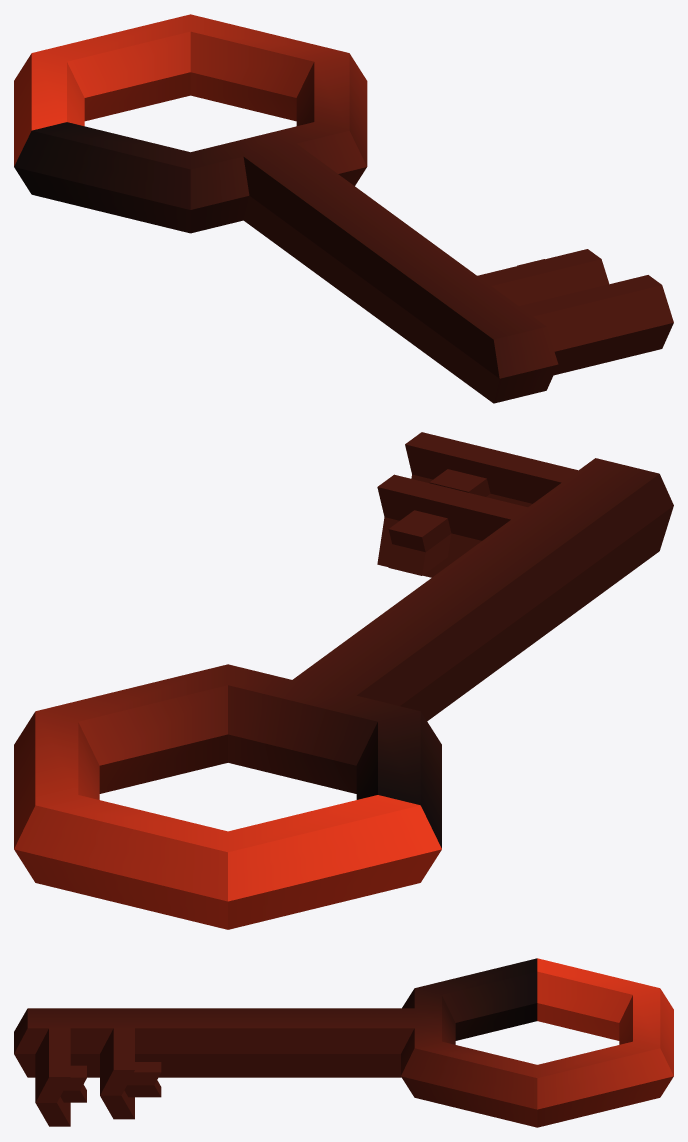
File: Obj_Key_Normal_A.glb
3 views of the same model, one above another, from view 1: azimuth 30°, elevation 25°; view 2: azimuth 150°, elevation 25°; view 3: azimuth 270°, elevation 25° (orthographic). The views are drawn at different scales.
Visible parts, largest first — view 1: Torus.001; view 2: Torus.001; view 3: Torus.001.
Boxes of the visible parts, <box> form: Torus.001: <box>14,14,673,403</box>; Torus.001: <box>14,432,673,929</box>; Torus.001: <box>14,958,673,1127</box>.
Bounding box in the file's own units: 2.5 × 0.433 × 5.23.
1 material, 1 textured.
